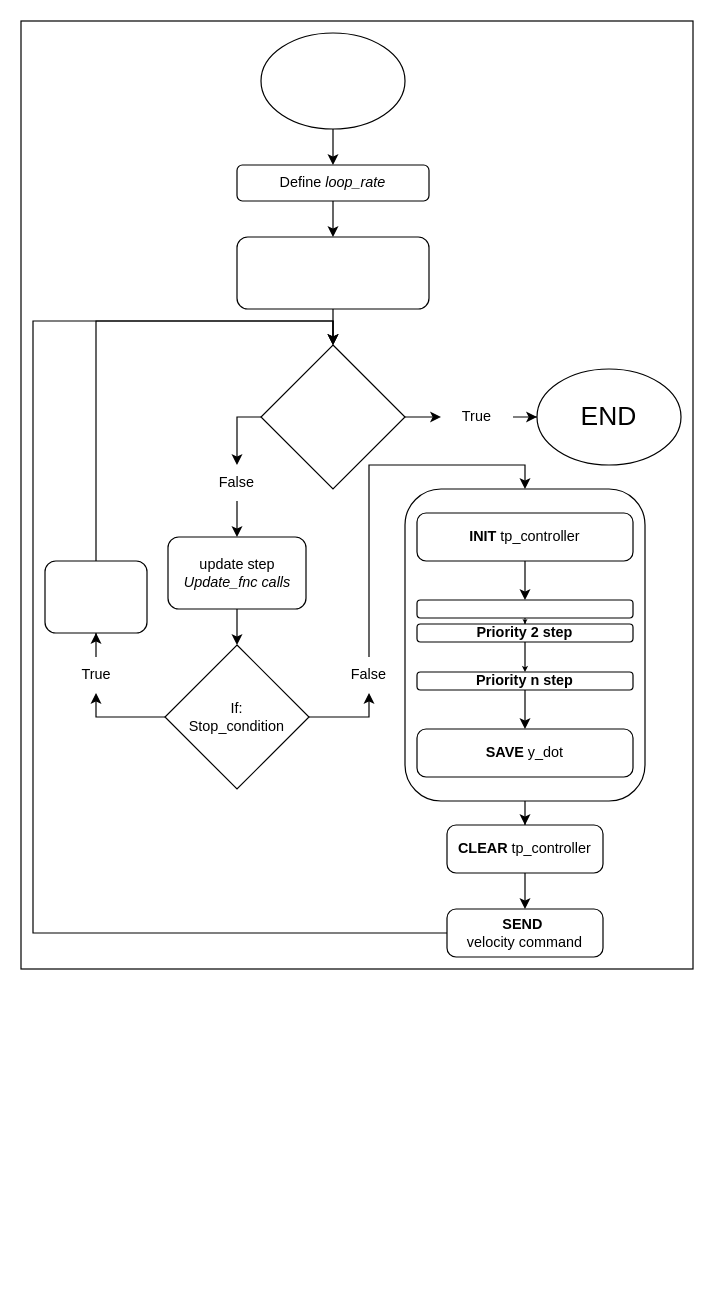
Some shapes in this 714 by 1314 pixel diagram are drawn without their labels. Each missing label, with the box of its shape:
goal_reached = True: (44, 560, 147, 633)
Istantiate TPComputation obj tp_controller: (236, 236, 429, 309)
Priority 1 step: (416, 599, 633, 618)
START: (260, 32, 405, 129)
While: goal_reached: (260, 344, 405, 489)
